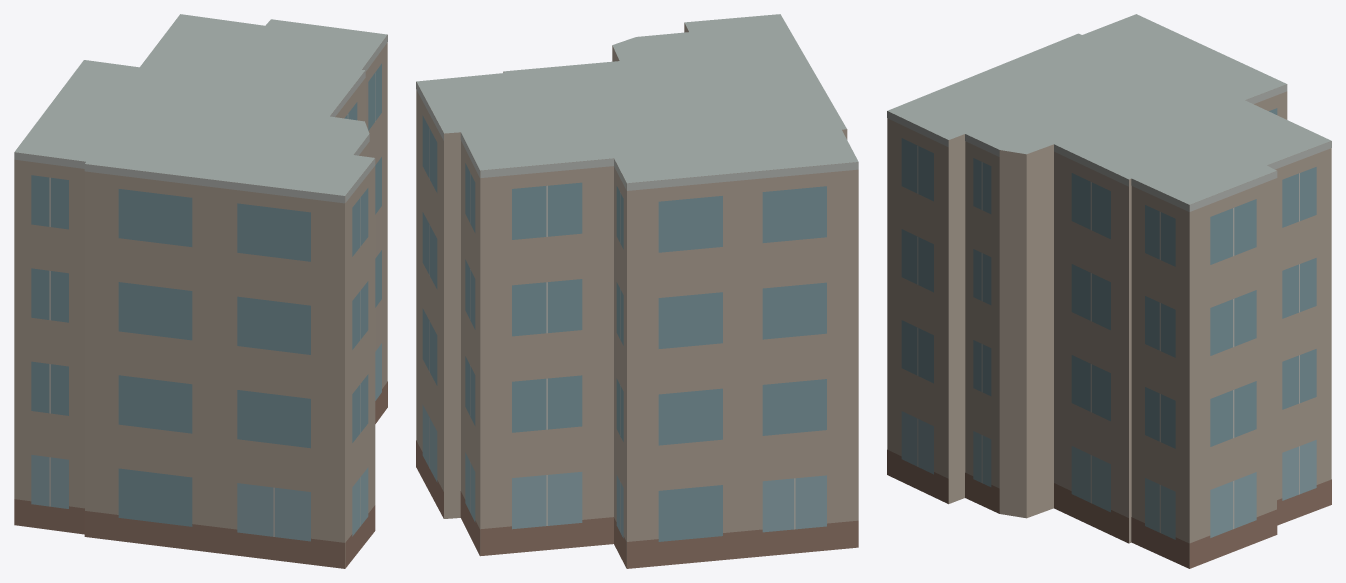
Rendered from survey-upis-32710824.glb.
3 views of the same model, side by side, from view 1: azimuth 30°, elevation 25°; view 2: azimuth 150°, elevation 25°; view 3: azimuth 270°, elevation 25° (orthographic). The views are drawn at different scales.
Parts seen in each view (by area): view 1: survey-upis-32710824.tmp; view 2: survey-upis-32710824.tmp; view 3: survey-upis-32710824.tmp.
Boxes of the visible parts, left/top/right/bottom form: survey-upis-32710824.tmp: left=14, top=14, right=387, bottom=568; survey-upis-32710824.tmp: left=416, top=14, right=858, bottom=568; survey-upis-32710824.tmp: left=887, top=14, right=1331, bottom=568.
Size of the model in its own units: 13.72 by 12.2 by 13.51.
